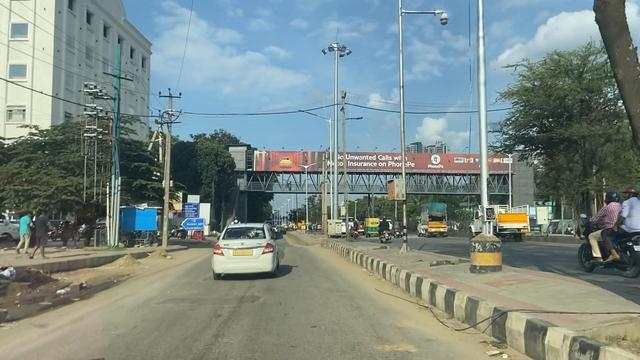LMV: (217, 221, 276, 279)
